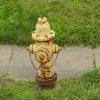a fire hydrant: (26, 17, 62, 87)
